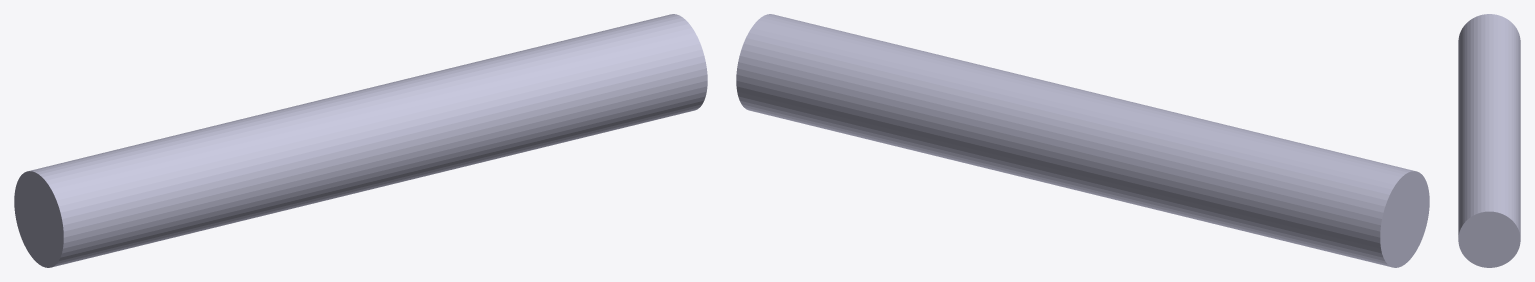
The model's file is total_internal_reflection.glb.
The picture shows the model from 3 angles, left to right: view 1: azimuth 30°, elevation 25°; view 2: azimuth 150°, elevation 25°; view 3: azimuth 270°, elevation 25°; orthographic projection. The views are drawn at different scales.
Parts seen in each view (by area): view 1: world; view 2: world; view 3: world.
Part boxes in pixels (x1,y1,x2,y2): world: (14, 14, 707, 267); world: (736, 14, 1429, 267); world: (1458, 14, 1520, 267).
Size of the model in its own units: 6 by 0.8 by 0.8.
